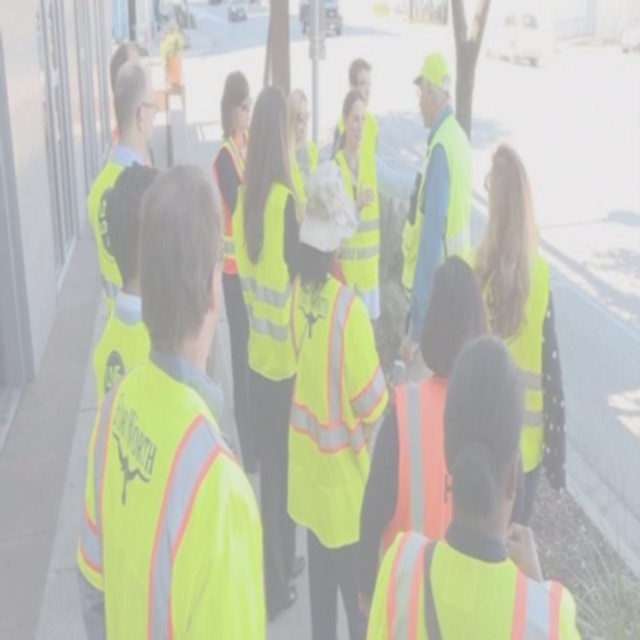pessoa: (73, 162, 271, 638), (359, 334, 586, 638), (353, 253, 493, 626), (284, 160, 391, 638), (228, 81, 310, 630), (470, 145, 568, 528), (399, 50, 474, 388), (90, 161, 166, 411), (88, 57, 157, 322), (212, 70, 256, 474), (328, 87, 381, 324), (105, 39, 154, 166), (332, 56, 379, 162), (286, 88, 320, 216)
